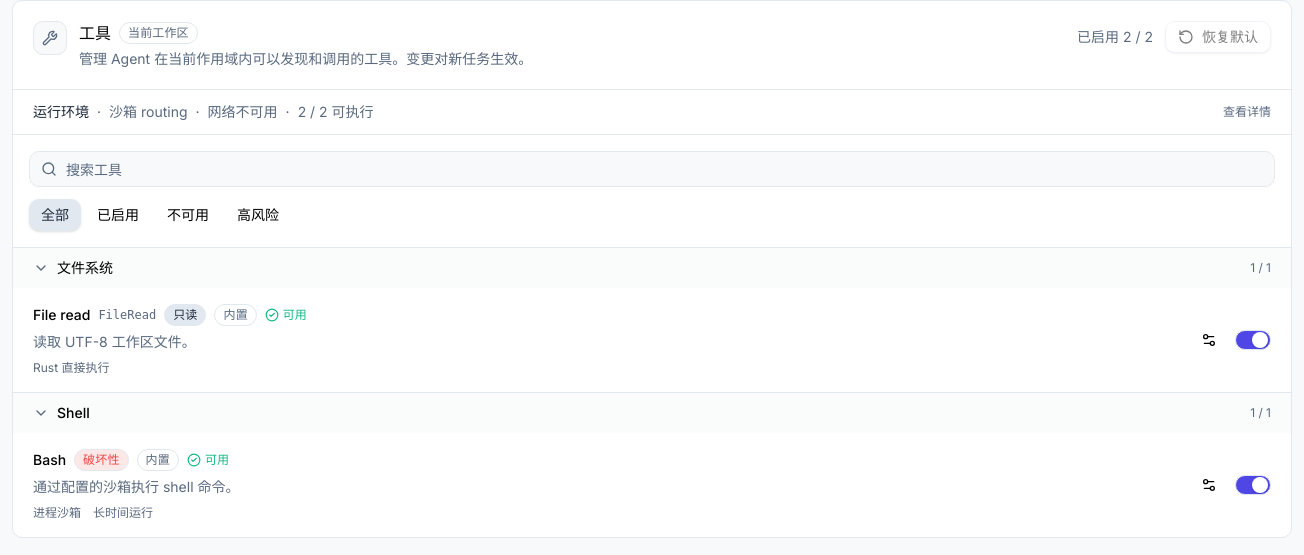
RuntimeToolsSettings › persists a normal switch change and updates its state
The width and height of the screenshot is (1304, 555).
Click the switch named "File read 开关".
click(1253, 340)  # box [1235, 330, 1271, 350]
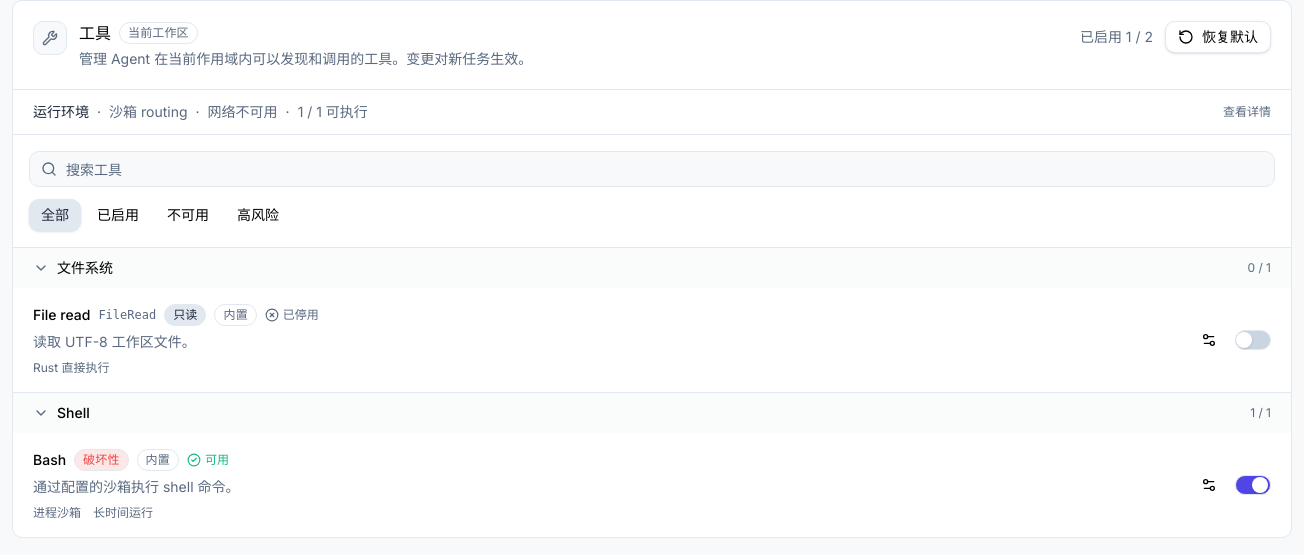
Check: the text "已停用" is shown, box [265, 307, 319, 323]
Check: the text "已启用 1 / 2" is shown, box [1080, 27, 1153, 47]
